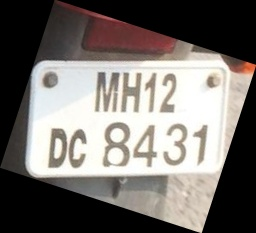character: (103, 120, 131, 167), (161, 122, 187, 166), (93, 69, 120, 111), (132, 123, 157, 167), (121, 70, 142, 113), (47, 127, 67, 168), (67, 128, 87, 168), (191, 123, 208, 167), (160, 73, 177, 114), (144, 70, 157, 113)
